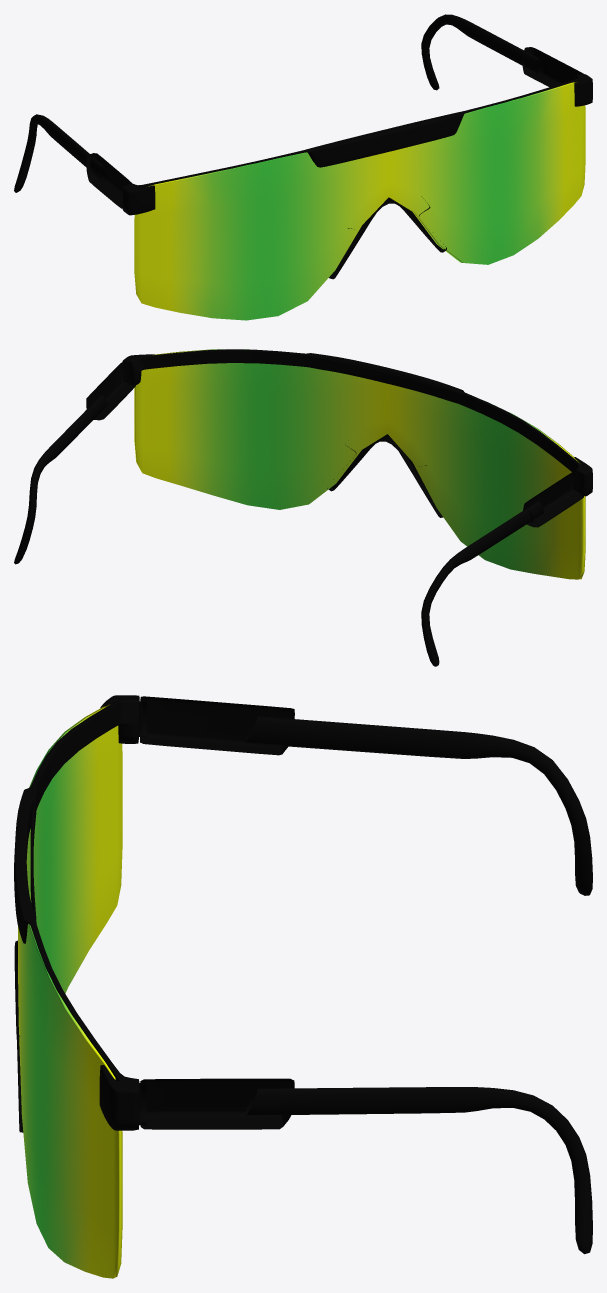
File: Viper Green.glb
3 views of the same model, one above another, from view 1: azimuth 30°, elevation 25°; view 2: azimuth 150°, elevation 25°; view 3: azimuth 270°, elevation 25° (orthographic). The views are drawn at different scales.
Visible parts, largest first — view 1: Object_5.001; view 2: Object_5.001; view 3: Object_5.001.
Part boxes in pixels (x1=…): Object_5.001: x1=14, y1=14, x2=592, y2=320; Object_5.001: x1=14, y1=349, x2=592, y2=666; Object_5.001: x1=14, y1=695, x2=592, y2=1278.
Bounding box in the file's own units: 0.5484 × 0.1823 × 0.3388.
Materials: 2 (1 with a texture image).
